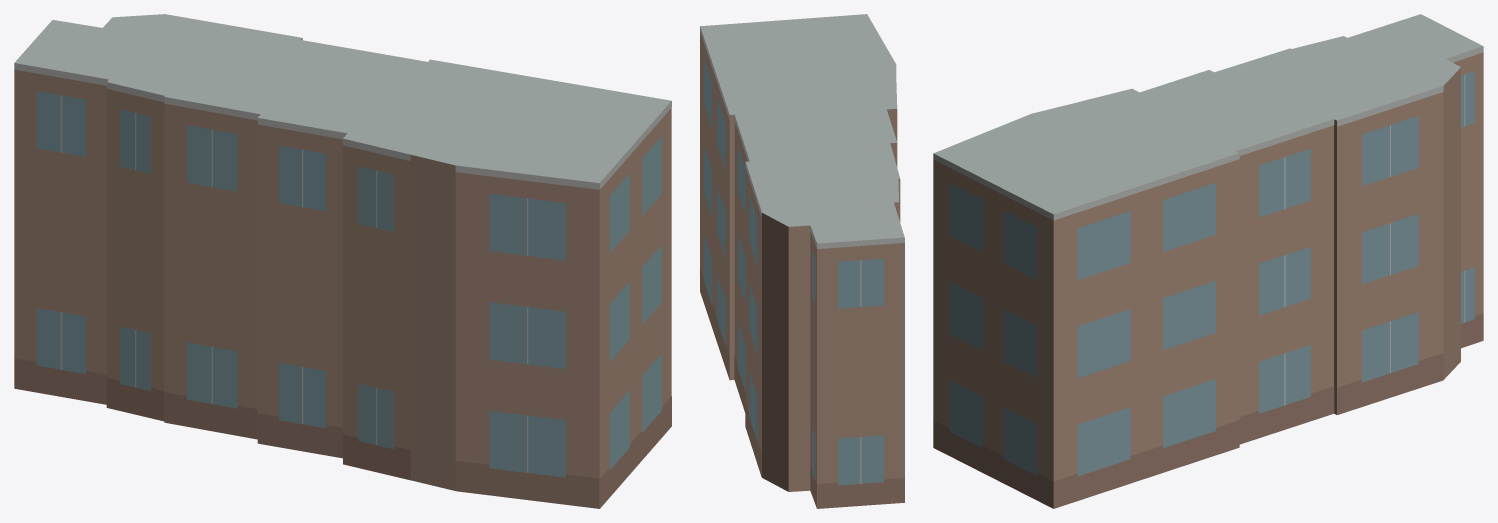
File: survey-upis-32531449.glb
3 views of the same model, side by side, from view 1: azimuth 30°, elevation 25°; view 2: azimuth 150°, elevation 25°; view 3: azimuth 270°, elevation 25° (orthographic). The views are drawn at different scales.
Visible parts, largest first — view 1: survey-upis-32531449.tmp; view 2: survey-upis-32531449.tmp; view 3: survey-upis-32531449.tmp.
Boxes of the visible parts, x1,y1,x2,y2 form: survey-upis-32531449.tmp: (14, 14, 671, 508); survey-upis-32531449.tmp: (700, 14, 904, 508); survey-upis-32531449.tmp: (933, 14, 1483, 508).
Bounding box in the file's own units: 17.39 × 11.9 × 20.16.
